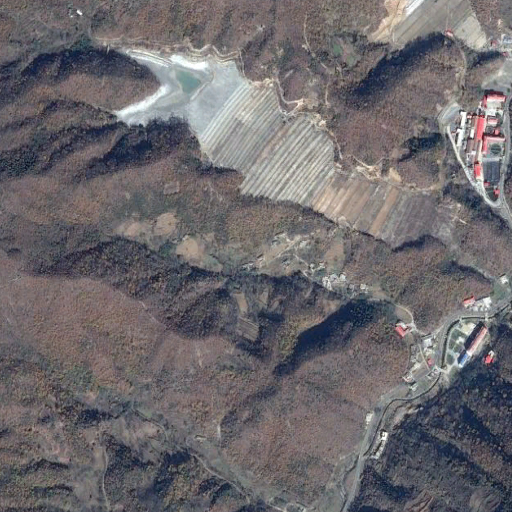tp: (124, 48, 444, 249)
